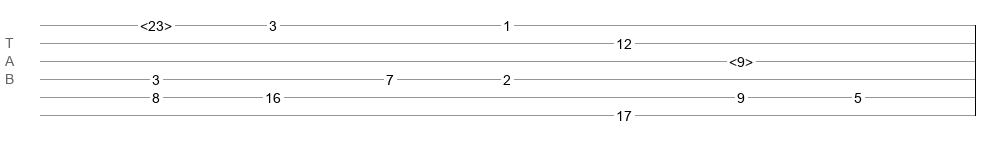1: (503, 18, 511, 28)
12: (616, 36, 632, 46)
16: (265, 90, 281, 100)
17: (616, 108, 632, 118)
2: (503, 72, 511, 82)
3: (152, 72, 160, 82), (269, 18, 277, 28)
5: (854, 90, 862, 100)
7: (386, 72, 394, 82)
8: (152, 90, 160, 100)
9: (737, 90, 745, 100)
harmonic: (140, 18, 172, 28), (729, 54, 753, 64)
